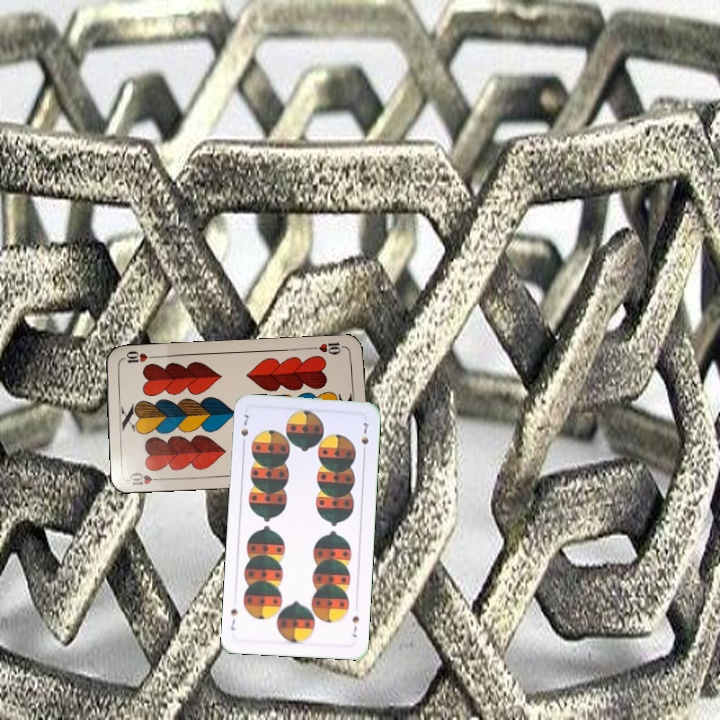H10: (125, 468, 166, 488), (308, 338, 349, 357)
S7: (237, 410, 251, 449), (348, 612, 362, 640)
